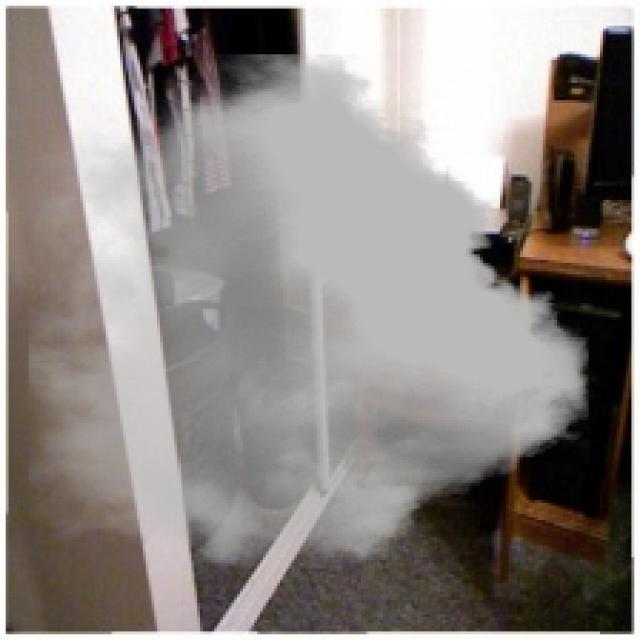smoke: (29, 54, 588, 569)
